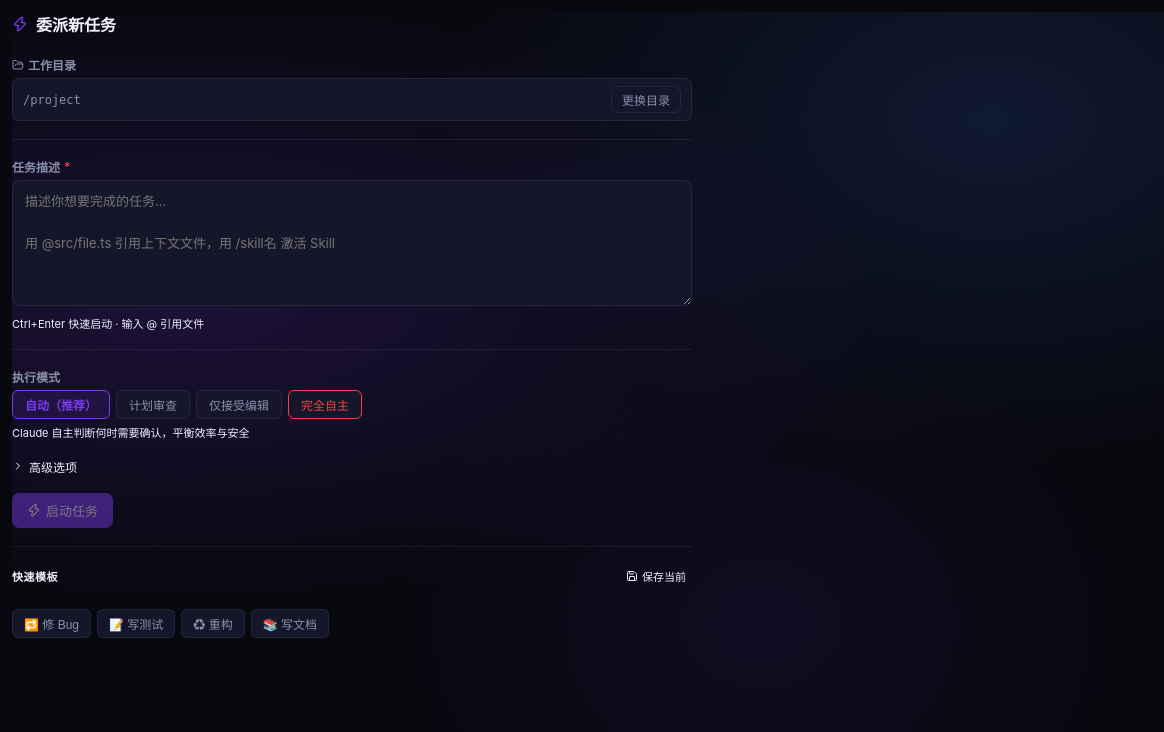
it: LaunchPanel - 按钮状态 › 有工作目录且有任务描述时"启动任务"按钮应可用
Type "帮我写一个测试" into the text box with placeholder "描述你想要完成的任务… 用 @src/file.ts 引用上下文文件，用 /skill名 激活 Skill" at [352, 243], box [12,180,692,306]
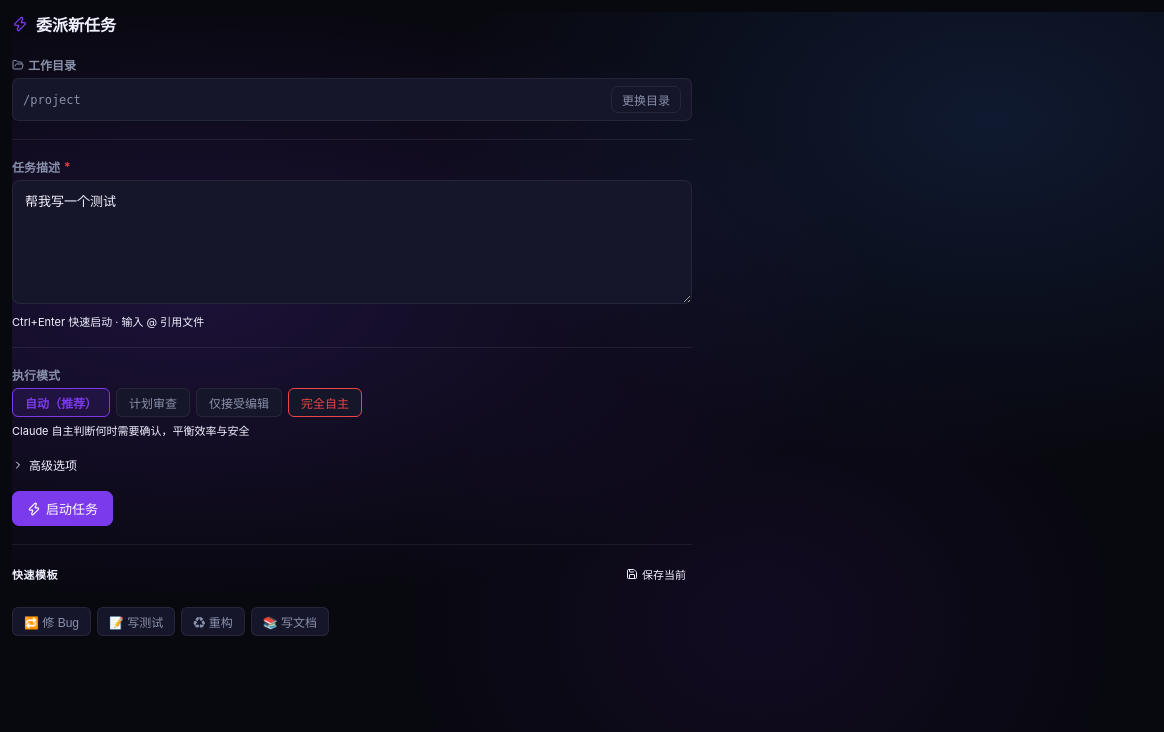
Now the button "启动任务" is enabled, box [12,491,113,526]
